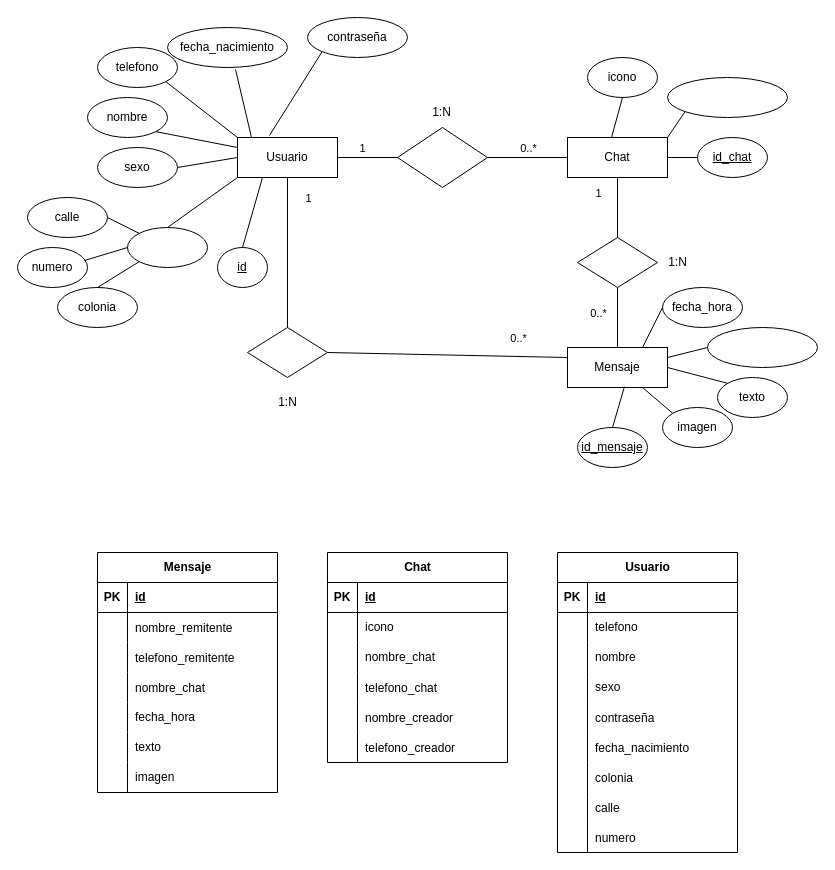
This 835x870 diagram has some shape labels left out. The box of each missing label's shape, as (x1, y1, x2, y2) in pixels:
administra: (396, 126, 488, 188)
contiene: (576, 236, 658, 288)
direccion: (126, 226, 208, 268)
envia: (246, 326, 328, 378)
nombre_contacto: (666, 76, 788, 118)
usuario_remitente: (706, 326, 818, 368)
